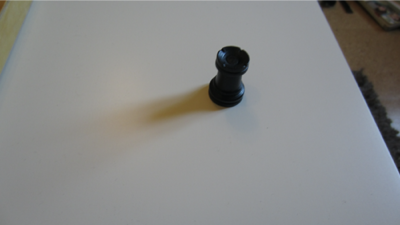black-rook: (208, 45, 252, 109)
